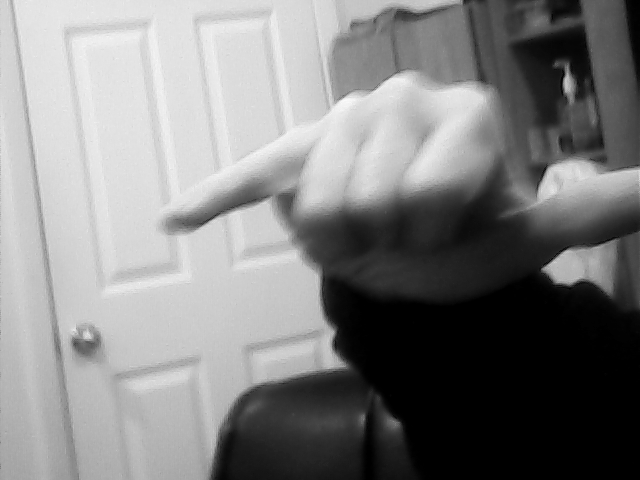aloha: (158, 62, 640, 304)
